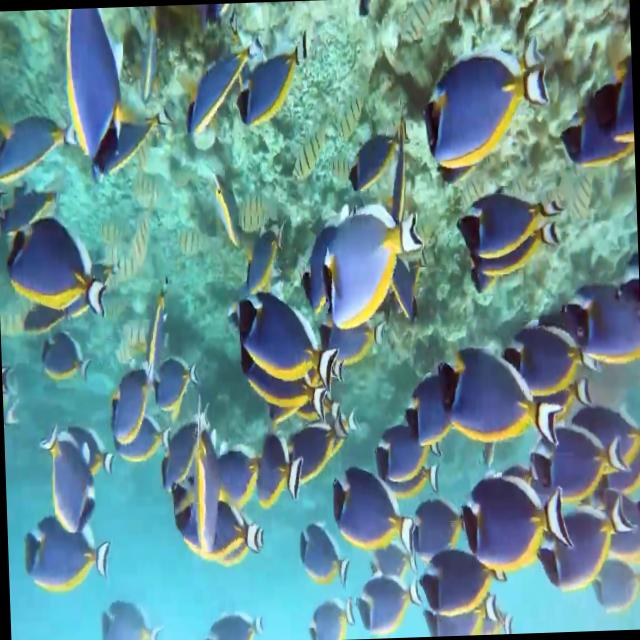fish: (326, 186, 422, 342), (418, 70, 554, 178), (458, 465, 576, 579), (532, 482, 640, 603), (50, 7, 126, 170), (2, 218, 112, 329), (432, 337, 541, 449), (526, 399, 632, 510), (449, 184, 560, 281), (34, 415, 112, 547), (555, 274, 640, 390), (243, 280, 336, 381), (330, 454, 410, 564), (234, 39, 318, 142), (418, 534, 508, 628), (162, 474, 252, 564), (18, 510, 114, 594), (590, 25, 635, 200), (232, 350, 328, 432), (184, 48, 250, 154), (554, 93, 620, 196), (0, 104, 80, 184), (509, 327, 586, 409), (94, 367, 160, 460), (182, 441, 228, 572), (326, 325, 402, 398), (281, 427, 348, 507), (294, 206, 342, 314), (250, 424, 306, 514), (58, 412, 120, 489), (150, 347, 206, 428), (378, 417, 428, 502), (404, 482, 458, 560), (350, 576, 420, 634), (292, 524, 351, 589), (104, 416, 170, 472), (406, 383, 450, 465), (32, 332, 92, 390), (0, 194, 68, 240), (593, 561, 640, 626), (90, 596, 157, 640), (300, 593, 356, 640), (197, 605, 263, 640)
